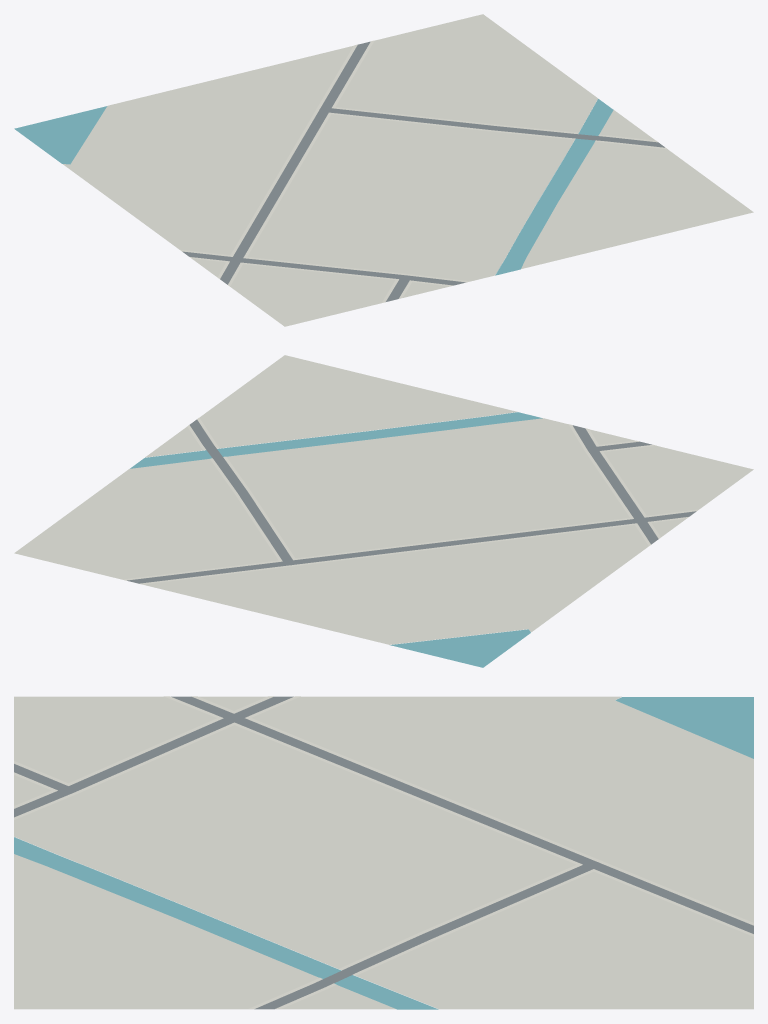
3 views of the same model, one above another, from view 1: azimuth 30°, elevation 25°; view 2: azimuth 150°, elevation 25°; view 3: azimuth 270°, elevation 25° (orthographic). The views are drawn at different scales.
Parts seen in each view (by area): view 1: city; view 2: city; view 3: city.
Part boxes in pixels (x1=…): city: x1=14, y1=14, x2=753, y2=326; city: x1=14, y1=355, x2=753, y2=667; city: x1=14, y1=696, x2=753, y2=1009.
Bounding box in the file's own units: 500 × 0.4 × 500.
